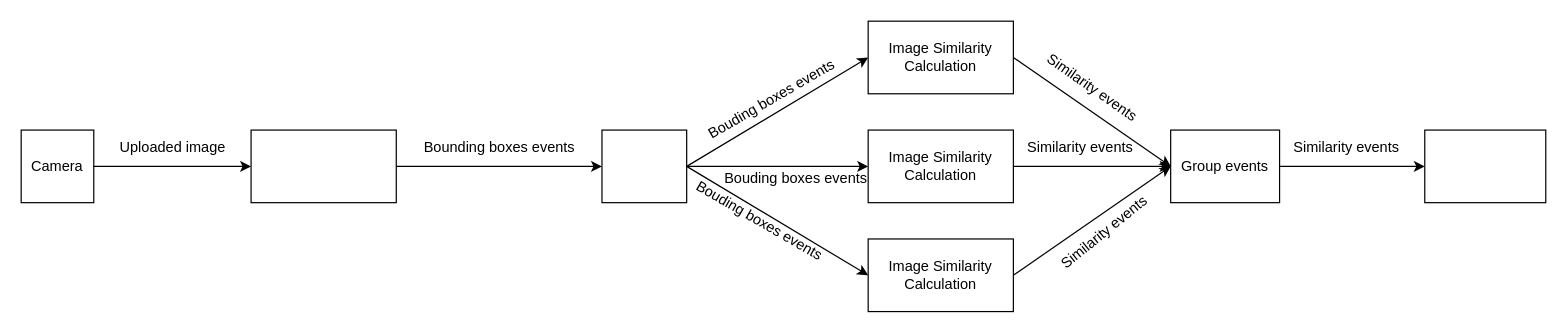
This 1567x333 diagram has some shape labels left out. Here are the shapes that lost their labels. From the top down, the box of each, then its label:
(250, 129, 396, 203): Bounding boxes detection
(601, 129, 687, 203): Dispatcher
(1424, 129, 1546, 203): Rank similarity
